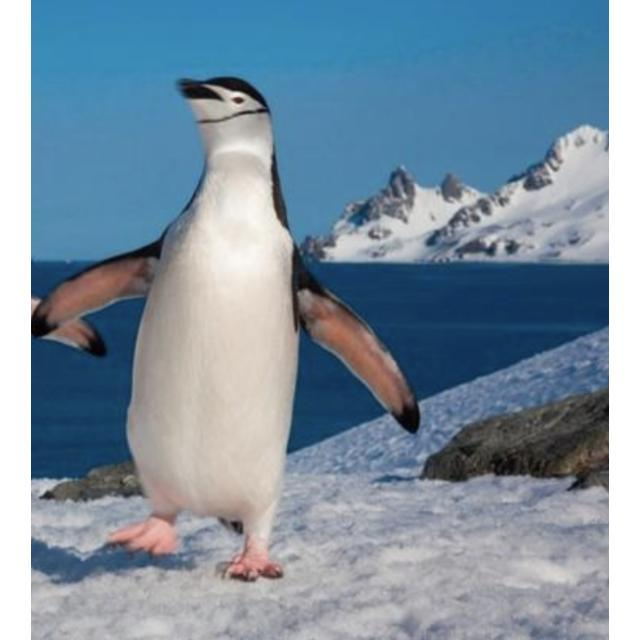penguin: (34, 74, 420, 585)
